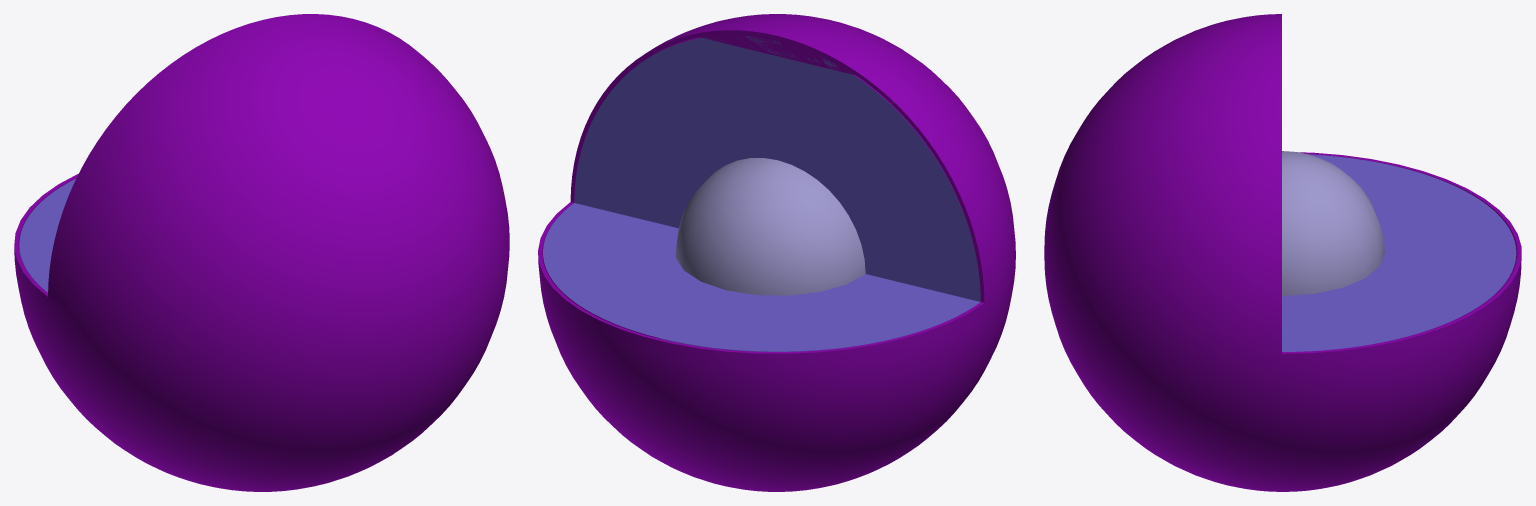
The model's file is nucleusFBX.fbx.
3 renders of one model, left to right at view 1: azimuth 30°, elevation 25°; view 2: azimuth 150°, elevation 25°; view 3: azimuth 270°, elevation 25°, orthographic. The views are drawn at different scales.
Parts seen in each view (by area): view 1: pSphere11; view 2: pSphere11; view 3: pSphere11.
Boxes of the visible parts, x1=… form: pSphere11: x1=14, y1=14, x2=509, y2=491; pSphere11: x1=538, y1=14, x2=1015, y2=491; pSphere11: x1=1044, y1=14, x2=1521, y2=491.
Size of the model in its own units: 27.06 by 27.06 by 27.01.
